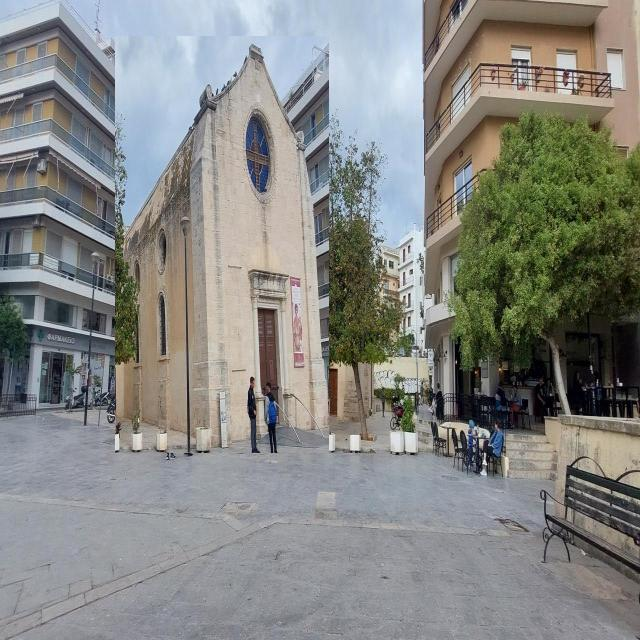Agia Aikaterini: (116, 37, 330, 454)
